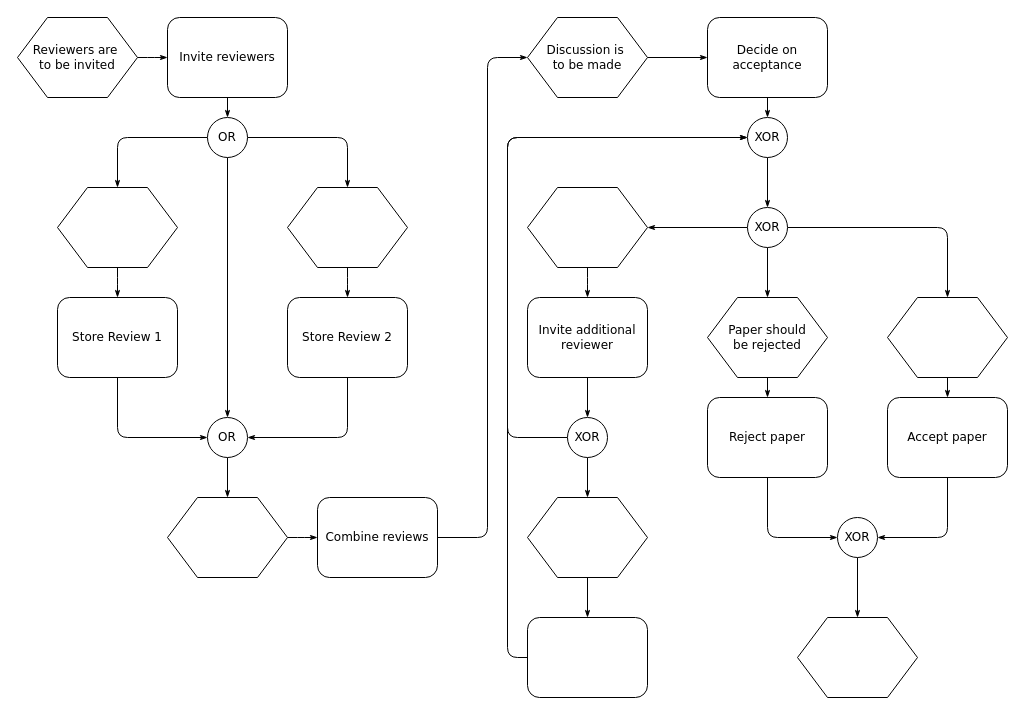
Some shapes in this 1025 by 715 pixel diagram are drawn without their labels. The shapes that lost their labels are listed below. From the top down, each one's centre as x and y in pixels, then its label:
(117,227): Review 1 received
(347,227): Review 2 received
(587,227): Additional review is needed
(947,337): Paper should be accepted
(227,537): Reviews are to be combined
(587,537): Review X was received
(587,657): Combine review X with others
(857,657): End
